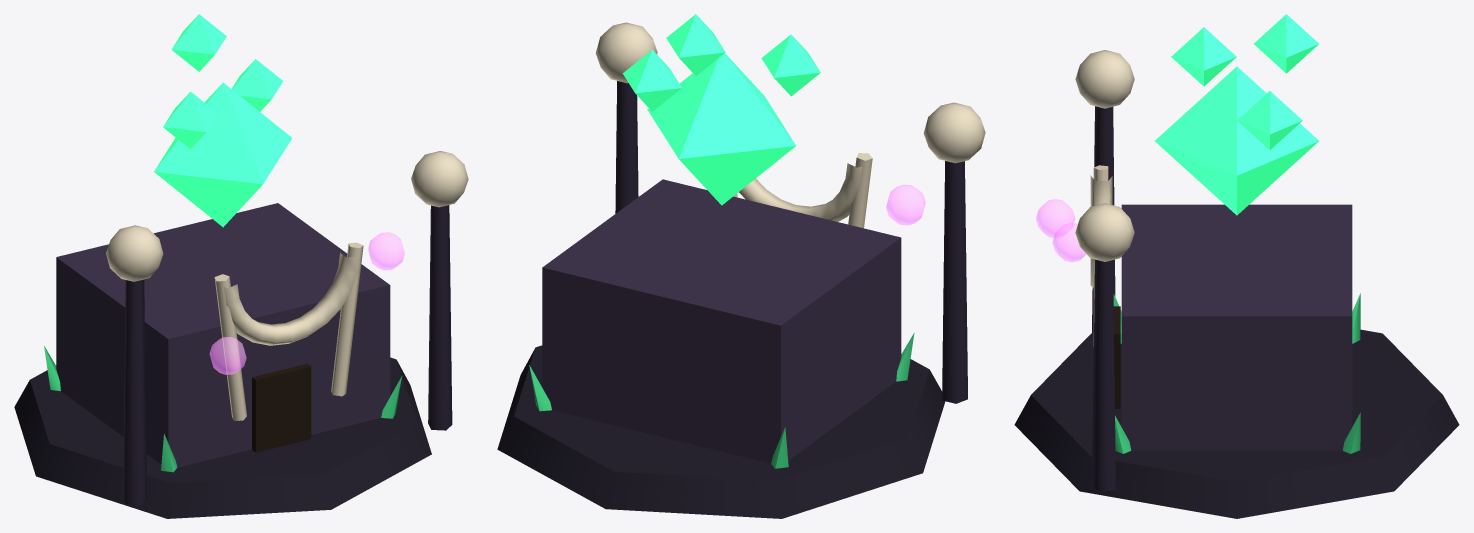
Rendered from level1.glb.
3 renders of one model, left to right at view 1: azimuth 30°, elevation 25°; view 2: azimuth 150°, elevation 25°; view 3: azimuth 270°, elevation 25°, orthographic. The views are drawn at different scales.
Size of the model in its own units: 2.7 by 2.76 by 2.7.
